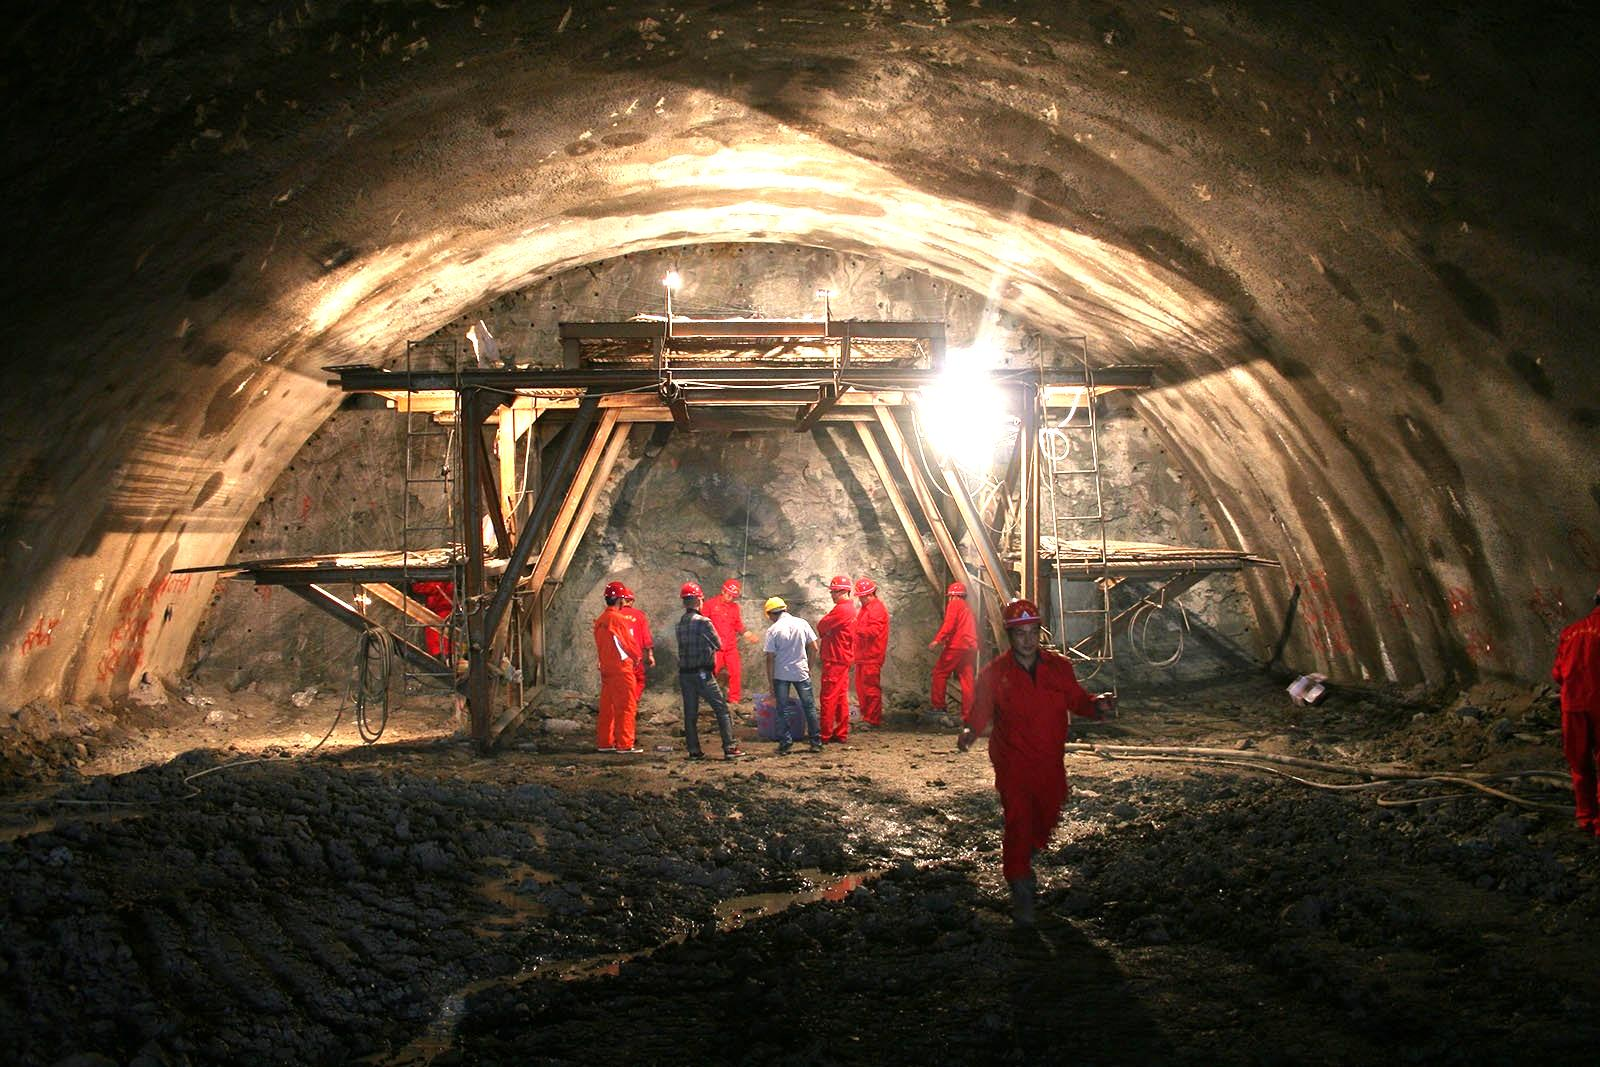helmet: (1001, 598, 1044, 654), (679, 581, 705, 613), (604, 580, 630, 607), (854, 576, 879, 605), (762, 595, 788, 622), (827, 575, 851, 603), (943, 580, 969, 603), (720, 578, 742, 603), (621, 587, 636, 607)
